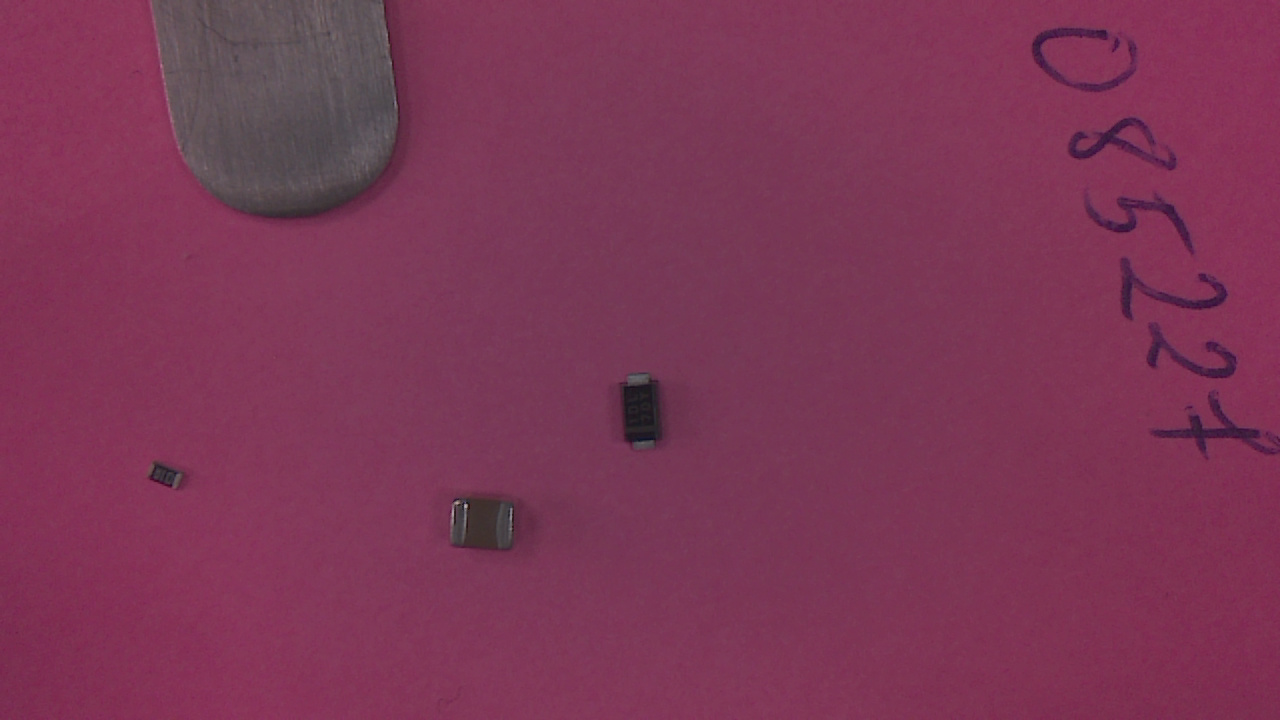Condensator: (453, 493, 522, 565)
Diode: (621, 374, 674, 460)
Resistor: (149, 465, 186, 497)
